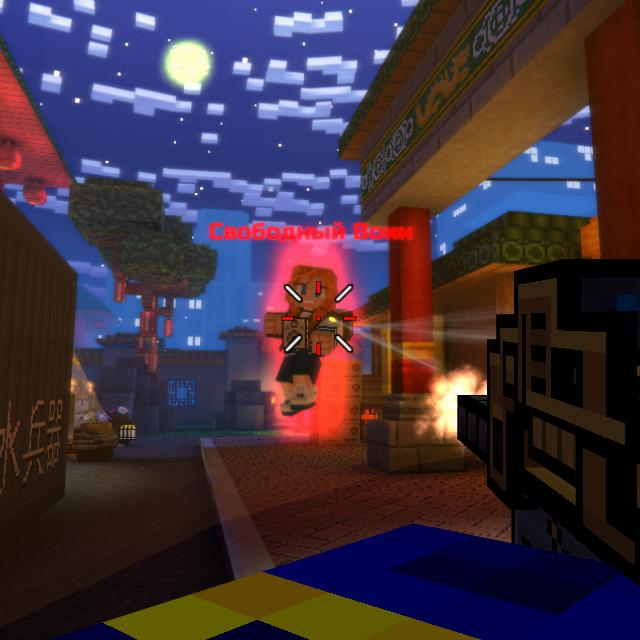Enemy: (264, 265, 353, 416)
